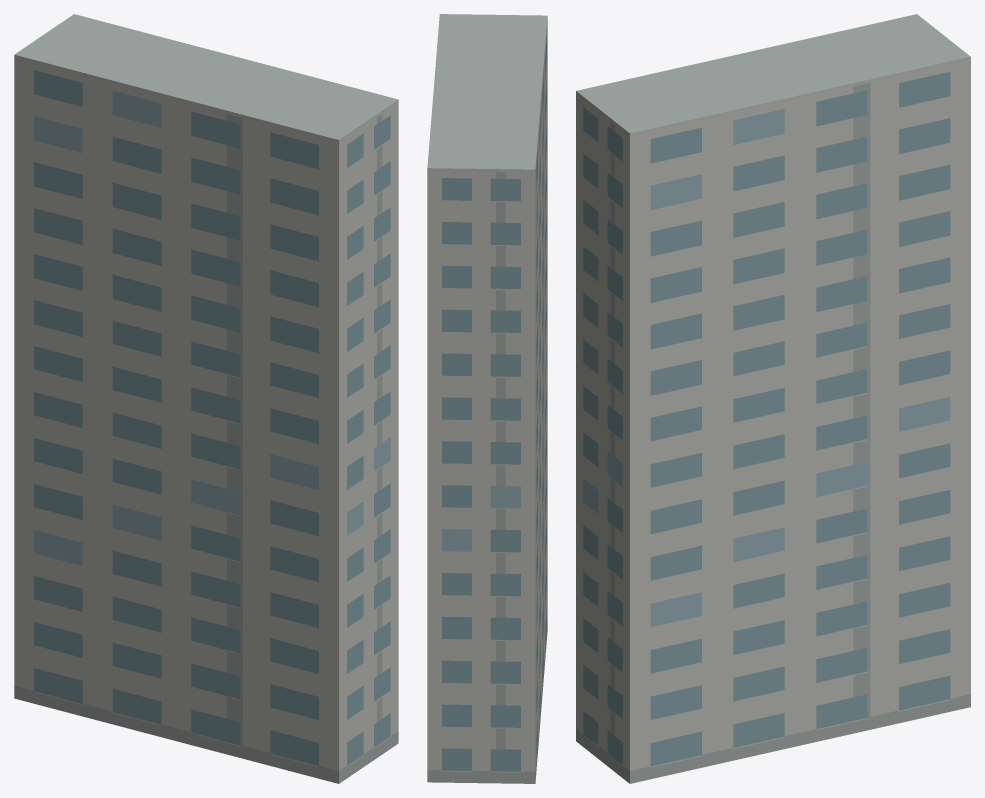
Rendered from residential-28ed1820-eeb1-430b-affa-189c99a692f0.glb.
3 renders of one model, left to right at view 1: azimuth 30°, elevation 25°; view 2: azimuth 150°, elevation 25°; view 3: azimuth 270°, elevation 25°, orthographic. The views are drawn at different scales.
Visible parts, largest first — view 1: residential-28ed1820-eeb1-430b-affa-189c99a692f0.tmp; view 2: residential-28ed1820-eeb1-430b-affa-189c99a692f0.tmp; view 3: residential-28ed1820-eeb1-430b-affa-189c99a692f0.tmp.
Boxes of the visible parts, <box> form: residential-28ed1820-eeb1-430b-affa-189c99a692f0.tmp: <box>14,14,398,783</box>; residential-28ed1820-eeb1-430b-affa-189c99a692f0.tmp: <box>427,14,547,783</box>; residential-28ed1820-eeb1-430b-affa-189c99a692f0.tmp: <box>576,14,970,783</box>.
Bounding box in the file's own units: 17.74 × 45 × 24.76.
